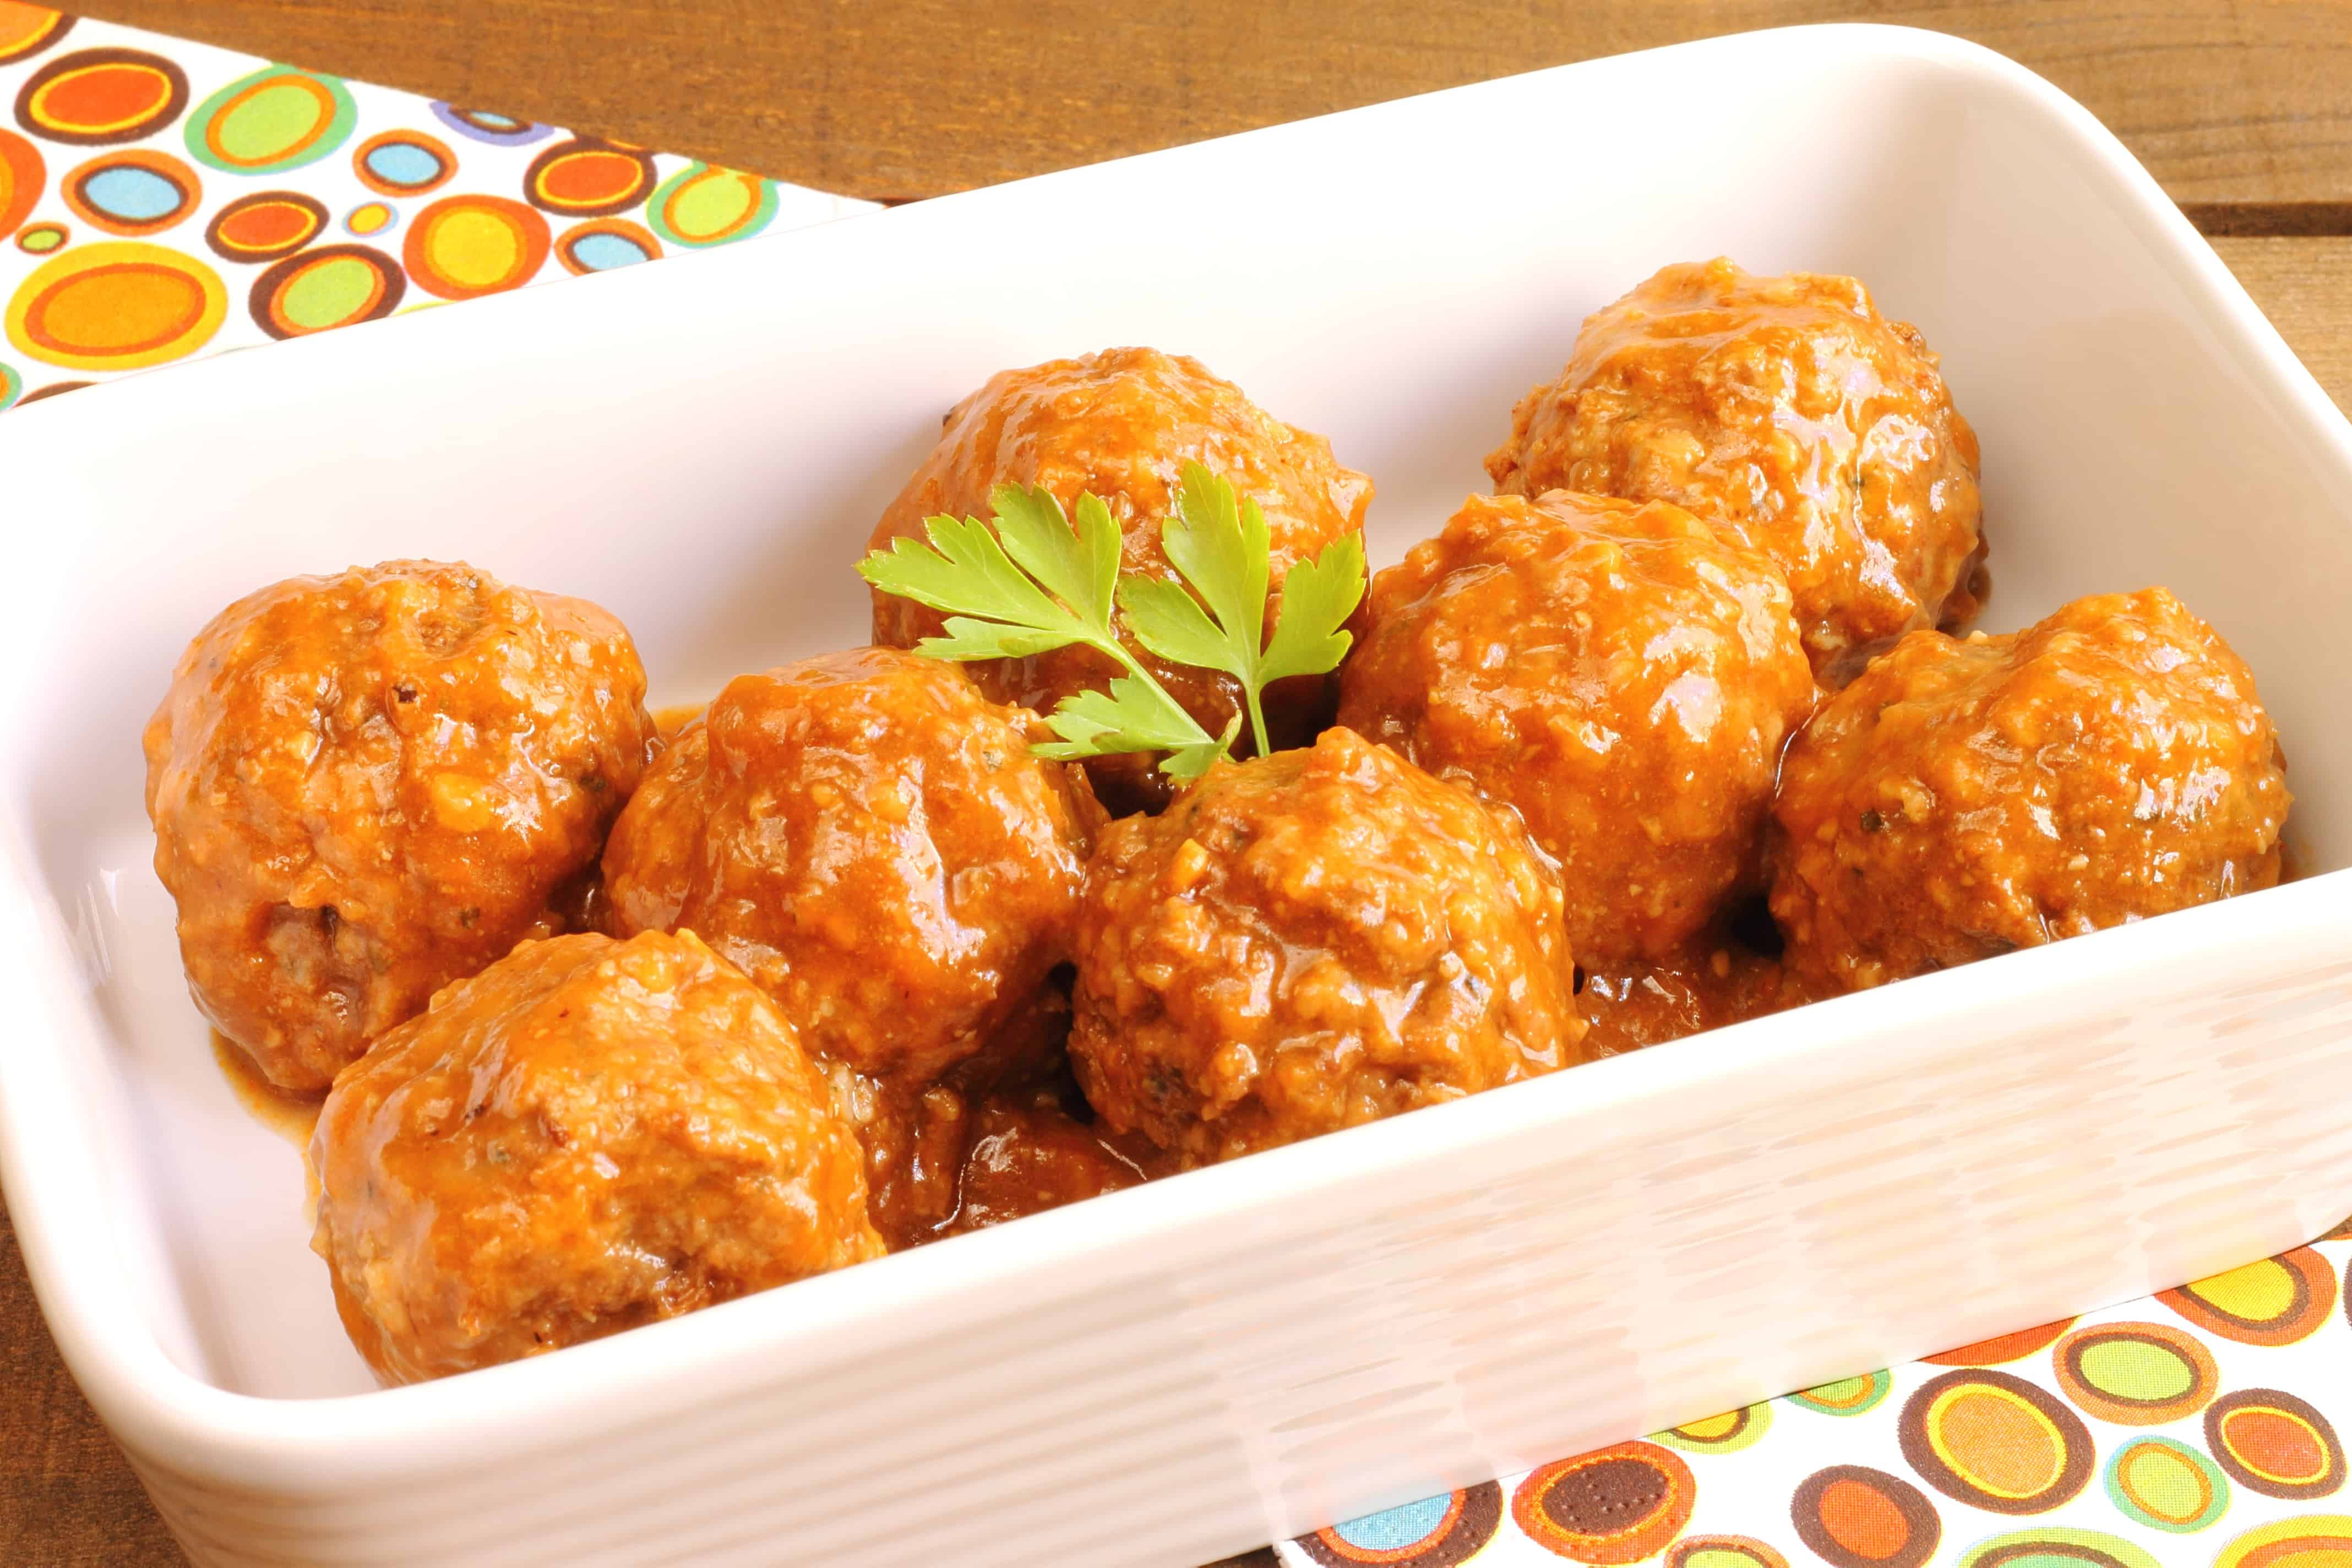meatballs: (329, 955, 871, 1335), (1388, 495, 1815, 901), (1543, 245, 1970, 635), (168, 595, 611, 971), (1073, 754, 1561, 1088), (663, 658, 1073, 1048), (1837, 598, 2303, 931), (905, 366, 1337, 710)
